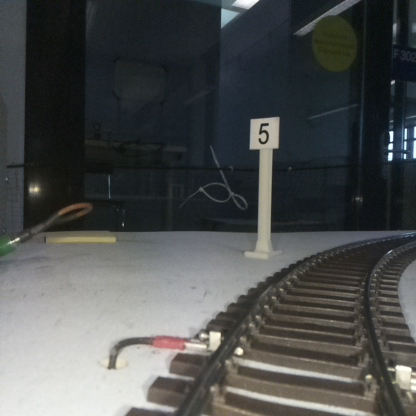white-info-5: (249, 116, 279, 257)
